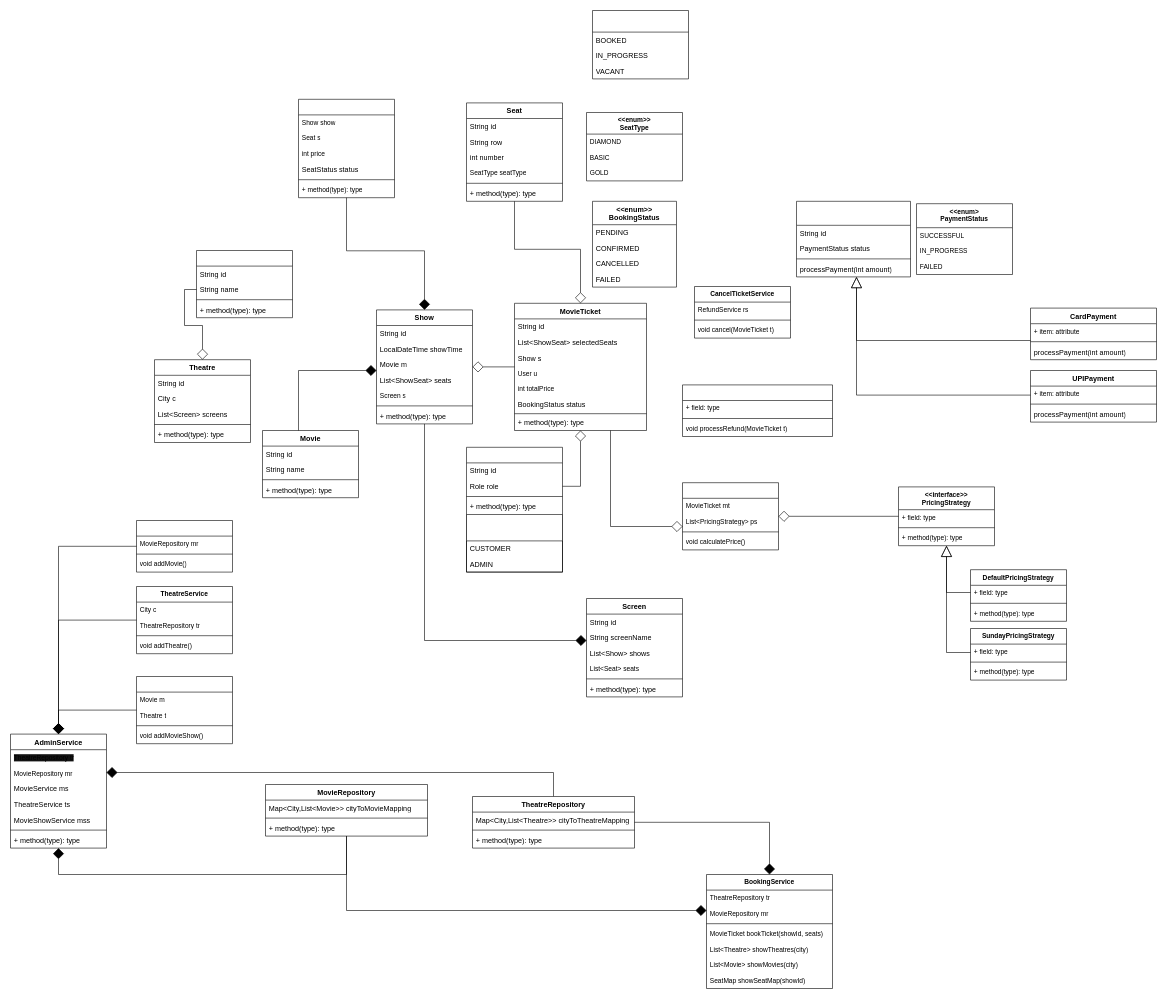
Some shapes in this 1167 by 1001 pixel diagram are drawn without their labels. The box of each missing label's shape, as (x1, y1, x2, y2) in pixels:
<<abstract>> PaymentGateway: (796, 201, 910, 277)
<<enum>> Role: (466, 514, 562, 572)
<<enum>> SeatStatus: (592, 10, 688, 79)
City: (196, 250, 292, 318)
MovieService: (136, 520, 232, 572)
MovieShowService: (136, 676, 232, 744)
PricingCalculator: (682, 482, 778, 550)
RefundService: (682, 384, 832, 436)
ShowSeat: (298, 99, 394, 198)
User: (466, 447, 562, 572)
